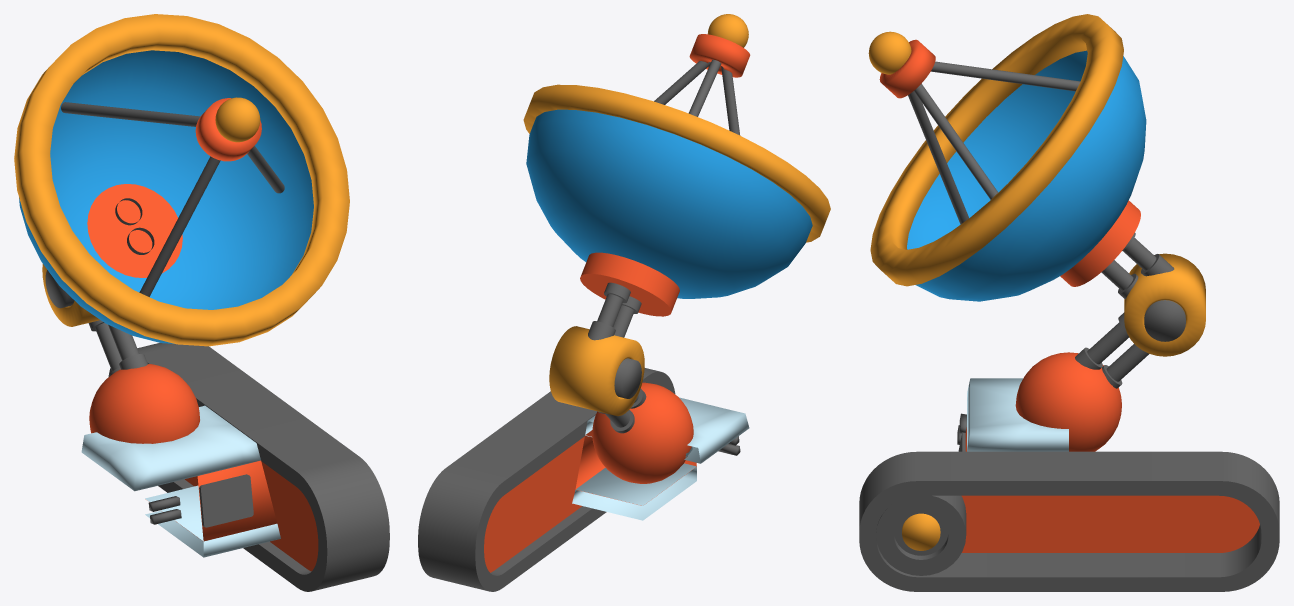
File: Rover.glb
The picture shows the model from 3 angles, left to right: view 1: azimuth 30°, elevation 25°; view 2: azimuth 150°, elevation 25°; view 3: azimuth 270°, elevation 25°; orthographic projection. The views are drawn at different scales.
Visible parts, largest first — view 1: Sphere, Cylinder.010, Plane, Cube.001, Roundcube, Cylinder.012, Plane.002, Cube.004, Cube, Plane.001, Cylinder.009, Cylinder.013 (+8 smaller); view 2: Sphere, Plane, Cylinder.010, Roundcube, Plane.002, Cylinder, Cube.004, Cylinder.012, Cube.001, Cylinder.013, Roundcube.001, Cube (+5 smaller); view 3: Plane, Sphere, Cylinder.010, Plane.002, Roundcube, Cube.001, Cylinder, Cylinder.002, Cylinder.012, Cylinder.007, Cylinder.013, Cylinder.009 (+7 smaller).
Part boxes in pixels (x1=…): Sphere: x1=19, y1=50, x2=313, y2=343; Cylinder.010: x1=14, y1=14, x2=349, y2=346; Plane: x1=108, y1=343, x2=389, y2=591; Cube.001: x1=81, y1=405, x2=260, y2=491; Roundcube: x1=89, y1=364, x2=199, y2=443; Cylinder.012: x1=87, y1=184, x2=182, y2=277; Plane.002: x1=185, y1=461, x2=318, y2=571; Cube.004: x1=145, y1=485, x2=280, y2=557; Cube: x1=145, y1=460, x2=277, y2=541; Plane.001: x1=199, y1=474, x2=253, y2=527; Cylinder.009: x1=139, y1=156, x2=220, y2=296; Cylinder.013: x1=195, y1=98, x2=261, y2=161; Sphere: x1=526, y1=109, x2=812, y2=298; Plane: x1=418, y1=368, x2=675, y2=591; Cylinder.010: x1=523, y1=84, x2=830, y2=242; Roundcube: x1=592, y1=382, x2=693, y2=483; Plane.002: x1=484, y1=436, x2=584, y2=572; Cylinder: x1=549, y1=326, x2=644, y2=416; Cube.004: x1=572, y1=463, x2=696, y2=520; Cylinder.012: x1=580, y1=252, x2=679, y2=316; Cube.001: x1=585, y1=397, x2=749, y2=463; Cylinder.013: x1=689, y1=34, x2=750, y2=77; Roundcube.001: x1=707, y1=14, x2=748, y2=47; Cube: x1=575, y1=430, x2=696, y2=505; Plane: x1=859, y1=451, x2=1279, y2=591; Sphere: x1=907, y1=50, x2=1146, y2=301; Cylinder.010: x1=870, y1=14, x2=1123, y2=286; Plane.002: x1=961, y1=495, x2=1259, y2=552; Roundcube: x1=1015, y1=352, x2=1121, y2=451; Cube.001: x1=967, y1=378, x2=1068, y2=451; Cylinder: x1=1124, y1=253, x2=1205, y2=356; Cylinder.002: x1=876, y1=495, x2=966, y2=575; Cylinder.012: x1=1060, y1=200, x2=1140, y2=286; Cylinder.007: x1=931, y1=61, x2=1080, y2=91; Cylinder.013: x1=879, y1=39, x2=935, y2=98; Cylinder.009: x1=908, y1=91, x2=968, y2=224.
Bounding box in the file's own units: 2.93 × 4.76 × 3.67.
